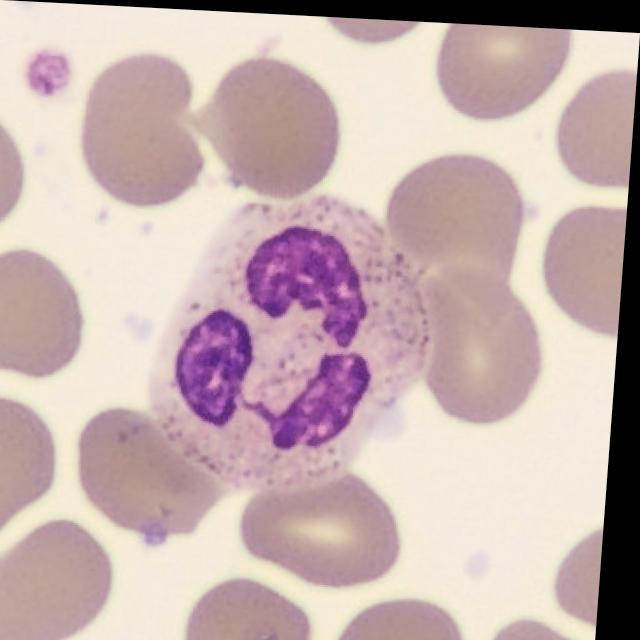Neutrofilo segmentado: (155, 194, 437, 489)
